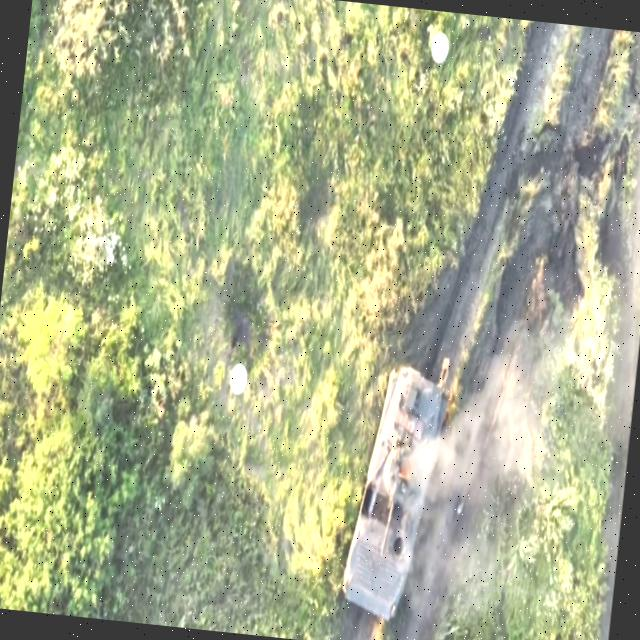AIFV: (339, 360, 452, 628)
